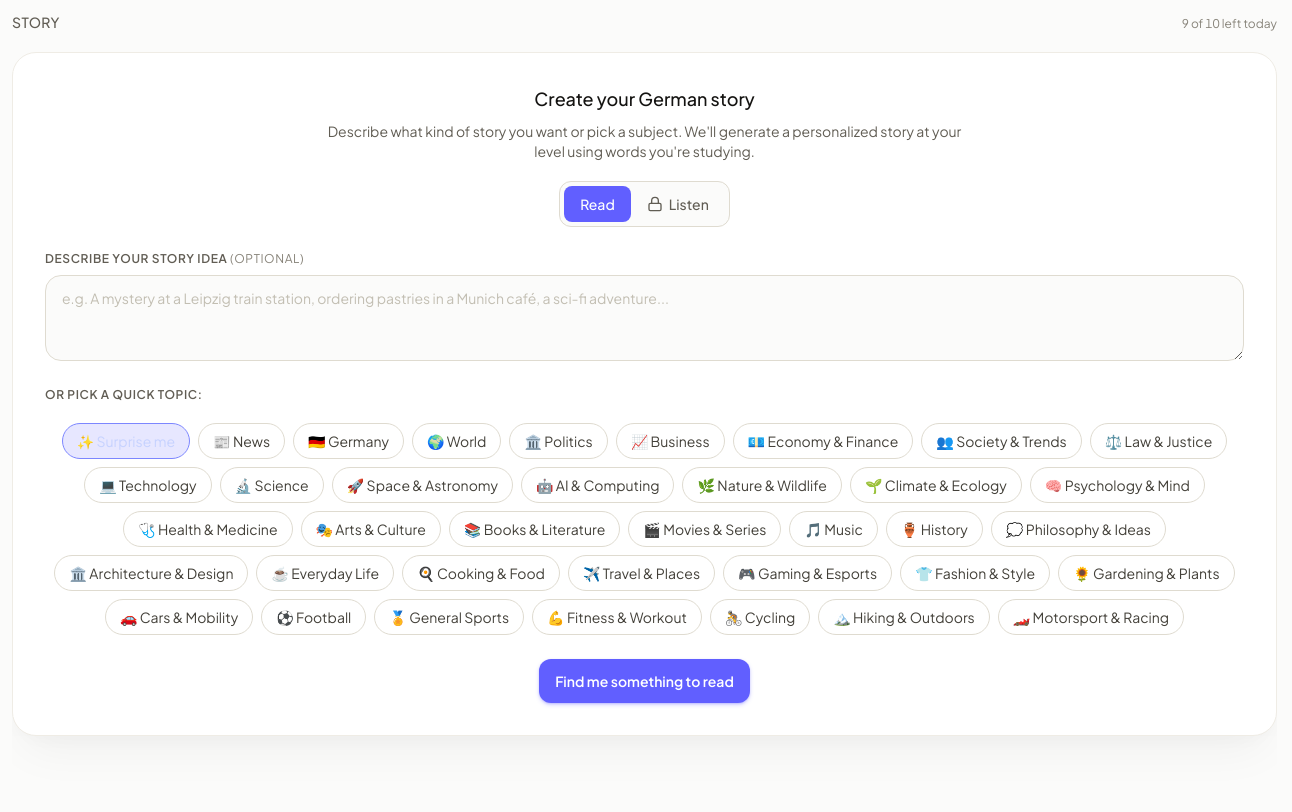
Test: StoryPage › podcast unlock › shows how far off episodes are, not just that they are locked
The image size is (1292, 812).
What coordinates should you click on to do the following:
click the radio button labelled "Listen"
I would click on:
 (678, 204)
Its box is [631,186,725,222].
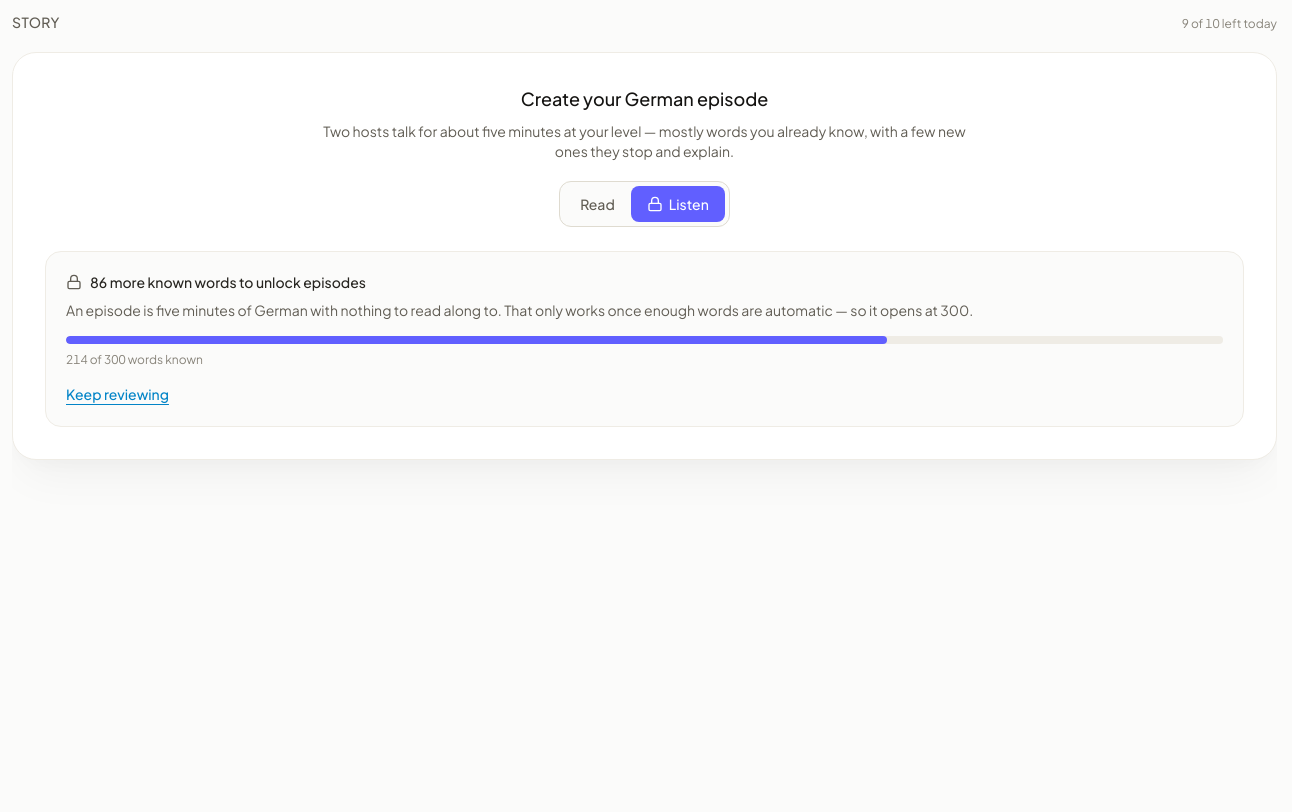
Check: the text "86 more known words to unlock episodes" is shown, box [90,272,366,292]
Check: the text "214 of 300 words known" is shown, box [66,352,203,367]
Check: the progress indicator named "Progress towards unlocking episodes" is shown, box [66,336,1223,344]
